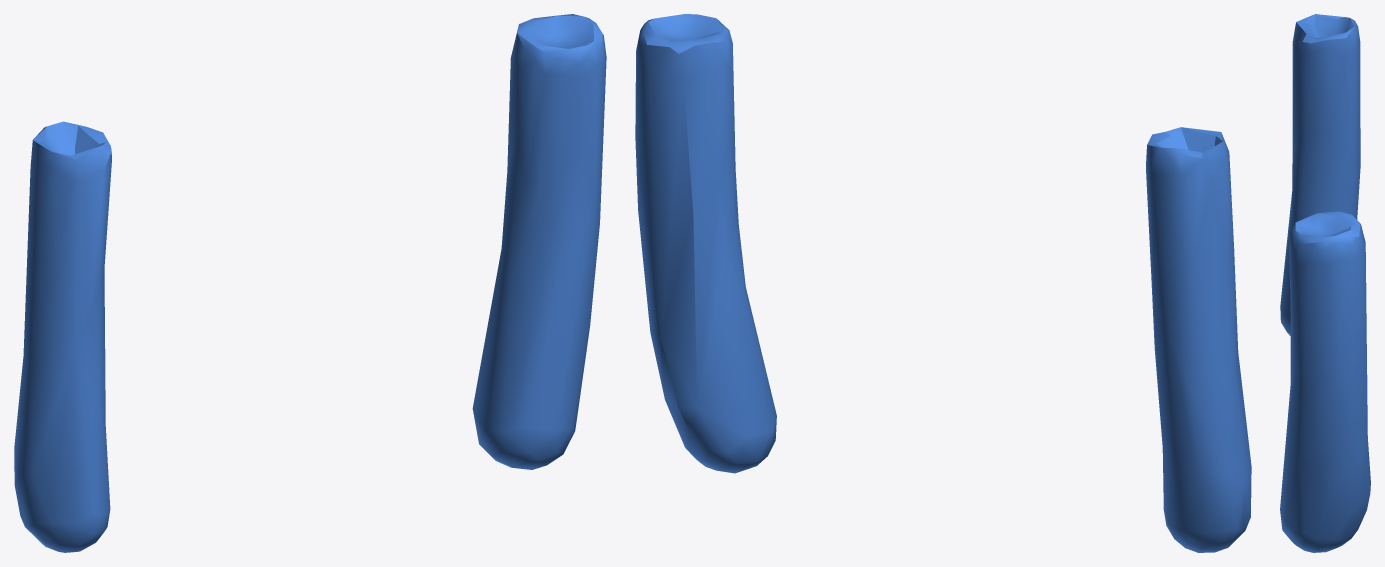
File: jugular.glb
The picture shows the model from 3 angles, left to right: view 1: azimuth 30°, elevation 25°; view 2: azimuth 150°, elevation 25°; view 3: azimuth 270°, elevation 25°; orthographic projection. The views are drawn at different scales.
Visible parts, largest first — view 1: grp1; view 2: grp1; view 3: grp1.
Boxes of the visible parts, x1,y1,x2,y2 form: grp1: [14, 14, 606, 552]; grp1: [635, 14, 1251, 552]; grp1: [1280, 14, 1370, 552].
Size of the model in its own units: 0.062 by 0.0443 by 0.0104.
